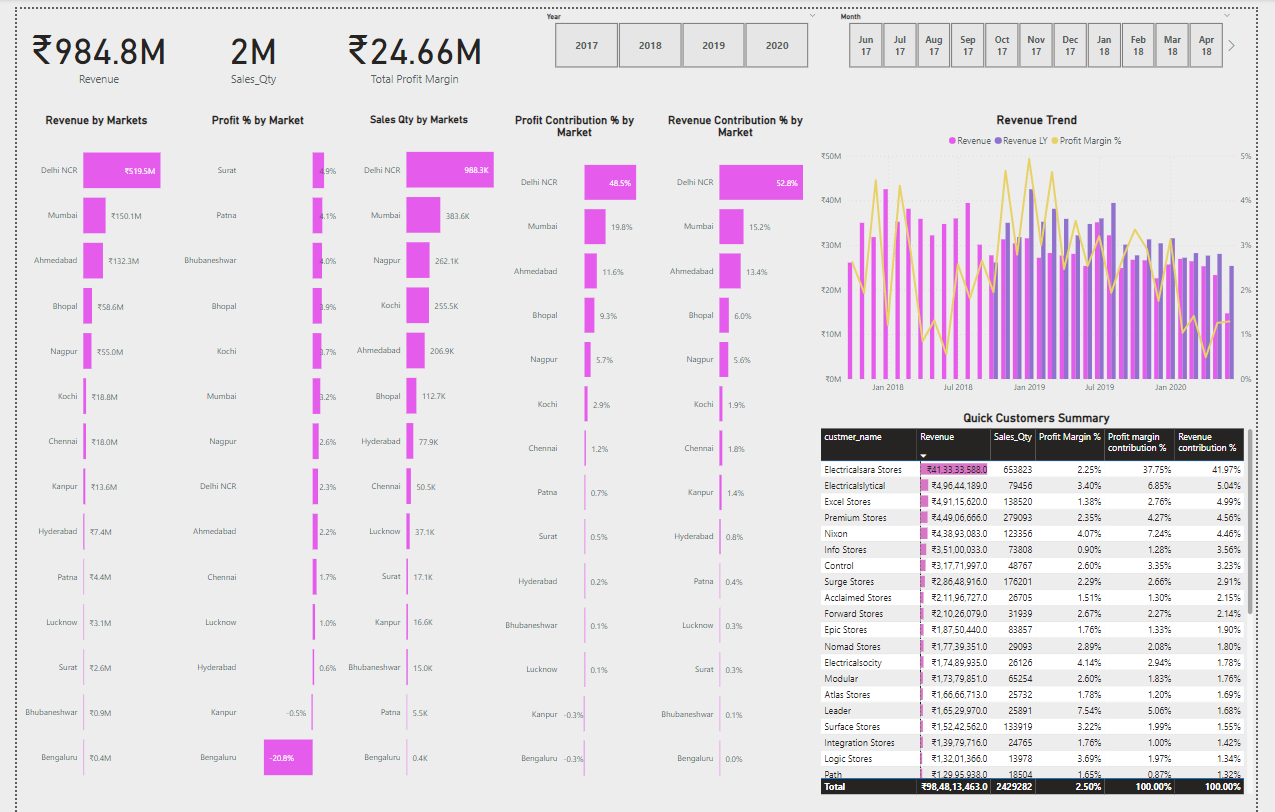

The page's visual inventory and layout, read from the dashboard file:
{"tool":"powerbi","page":{"name":"dash1","canvas":[1850,1200],"ordinal":0},"visuals":[{"type":"card","fields":{"Values":["Base_Measures.Revenue"]},"box":[0,0,244.2,133.2],"z":0},{"type":"card","fields":{"Values":["Base_Measures.Sales_Qty"]},"box":[244.3,0,215.7,132.9],"z":1000},{"type":"barChart","title":"Revenue by Markets","fields":{"Y":["Base_Measures.Revenue"],"Category":["sales markets.markets_name"]},"box":[0,155.7,237.1,1021.4],"z":2000},{"type":"barChart","title":"Sales Qty by Markets","fields":{"Y":["Base_Measures.Sales_Qty"],"Category":["sales markets.markets_name"]},"box":[481.4,155.7,235.7,1021.4],"z":3000},{"type":"slicer","fields":{"Values":["sales date.year"]},"box":[777.1,0,427.1,94.3],"z":4000},{"type":"slicer","fields":{"Values":["sales date.cy_date"]},"box":[1215.7,0,607.1,94.3],"z":5000},{"type":"tableEx","title":"Quick Customers Summary","fields":{"Values":["sales customers.custmer_name","Base_Measures.Revenue","Base_Measures.Sales_Qty","Base_Measures.Profit Margin %","Base_Measures.Profit margin contribution %","Base_Measures.Revenue contribution %"]},"box":[1194.3,600,655.7,577.1],"z":6000},{"type":"lineClusteredColumnComboChart","title":"Revenue Trend","fields":{"Category":["sales date.cy_date"],"Y":["Base_Measures.Revenue","Base_Measures.Revenue LY"],"Y2":["Base_Measures.Profit Margin %"]},"box":[1194.3,155.7,655.7,427.1],"z":7000},{"type":"card","fields":{"Values":["Base_Measures.Total Profit Margin"]},"box":[470,0,247,133],"z":8000},{"type":"barChart","title":"Profit % by Market","fields":{"Y":["Base_Measures.Profit Margin %"],"Category":["sales markets.markets_name"]},"box":[237.1,155.7,244.3,1021.4],"z":9000},{"type":"barChart","title":"Profit Contribution % by Market","fields":{"Y":["Base_Measures.Profit margin contribution %"],"Category":["sales markets.markets_name"]},"box":[717.1,155.7,231.4,1021.4],"z":10000},{"type":"barChart","title":"Revenue Contribution % by Market","fields":{"Y":["Base_Measures.Revenue contribution %"],"Category":["sales markets.markets_name"]},"box":[948.6,155.7,245.7,1021.4],"z":11000}]}

Visuals, with their boxes in screenshot pixels (x1, y1, x2, y2), scaled from the page's 1850x1200 canvas onto the 1275x812 screenshot:
card - Base_Measures.Revenue: left=0, top=0, right=168, bottom=90
card - Base_Measures.Sales_Qty: left=168, top=0, right=317, bottom=90
"Revenue by Markets" barChart: left=0, top=105, right=163, bottom=797
"Sales Qty by Markets" barChart: left=332, top=105, right=494, bottom=797
slicer - sales date.year: left=536, top=0, right=830, bottom=64
slicer - sales date.cy_date: left=838, top=0, right=1256, bottom=64
"Quick Customers Summary" tableEx: left=823, top=406, right=1274, bottom=797
"Revenue Trend" lineClusteredColumnComboChart: left=823, top=105, right=1274, bottom=394
card - Base_Measures.Total Profit Margin: left=324, top=0, right=494, bottom=90
"Profit % by Market" barChart: left=163, top=105, right=332, bottom=797
"Profit Contribution % by Market" barChart: left=494, top=105, right=654, bottom=797
"Revenue Contribution % by Market" barChart: left=654, top=105, right=823, bottom=797
